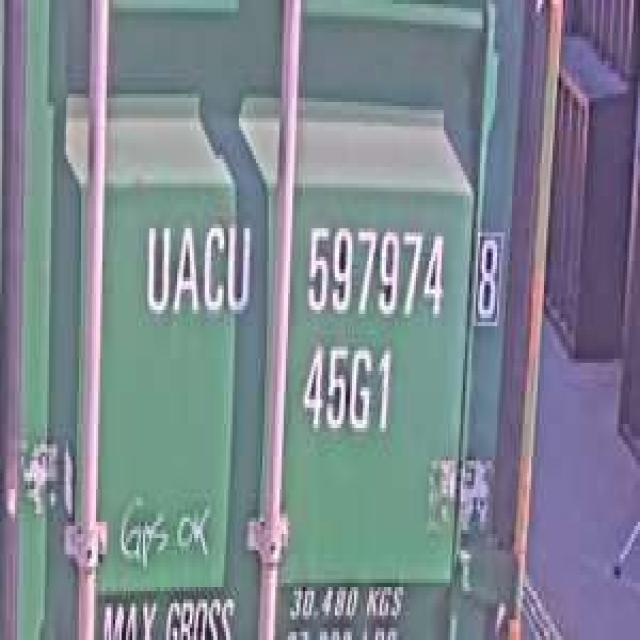dv: (469, 220, 506, 330)
owner: (139, 208, 254, 330)
serial: (301, 216, 446, 330)
size: (294, 334, 395, 444)
